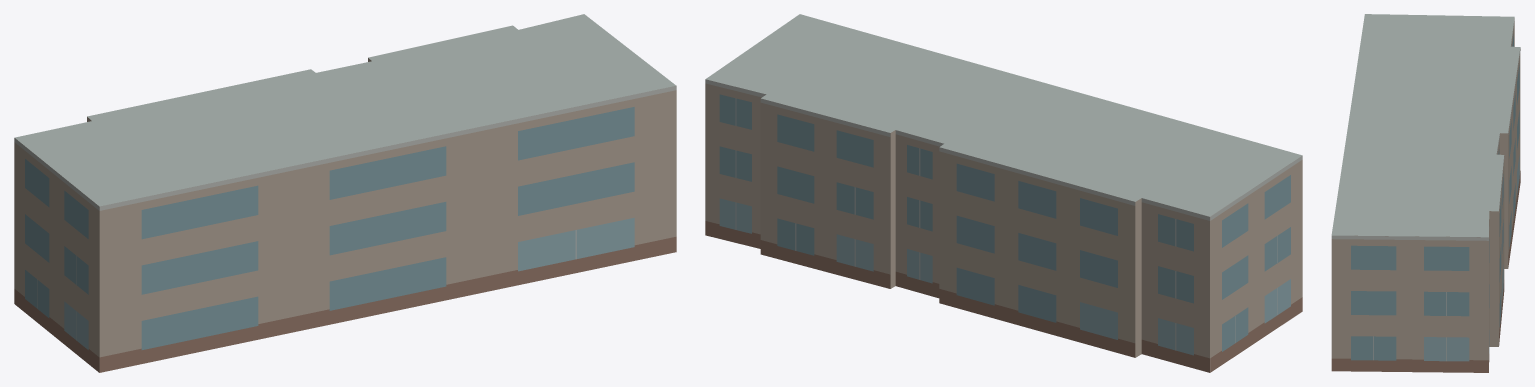
The model's file is survey-upis-32949307.glb.
3 renders of one model, left to right at view 1: azimuth 30°, elevation 25°; view 2: azimuth 150°, elevation 25°; view 3: azimuth 270°, elevation 25°, orthographic. The views are drawn at different scales.
Visible parts, largest first — view 1: survey-upis-32949307.tmp; view 2: survey-upis-32949307.tmp; view 3: survey-upis-32949307.tmp.
Part boxes in pixels (x1=…): survey-upis-32949307.tmp: x1=14, y1=14, x2=676, y2=372; survey-upis-32949307.tmp: x1=705, y1=14, x2=1302, y2=372; survey-upis-32949307.tmp: x1=1331, y1=14, x2=1520, y2=372.
Bounding box in the file's own units: 32.29 × 9.15 × 11.56.
